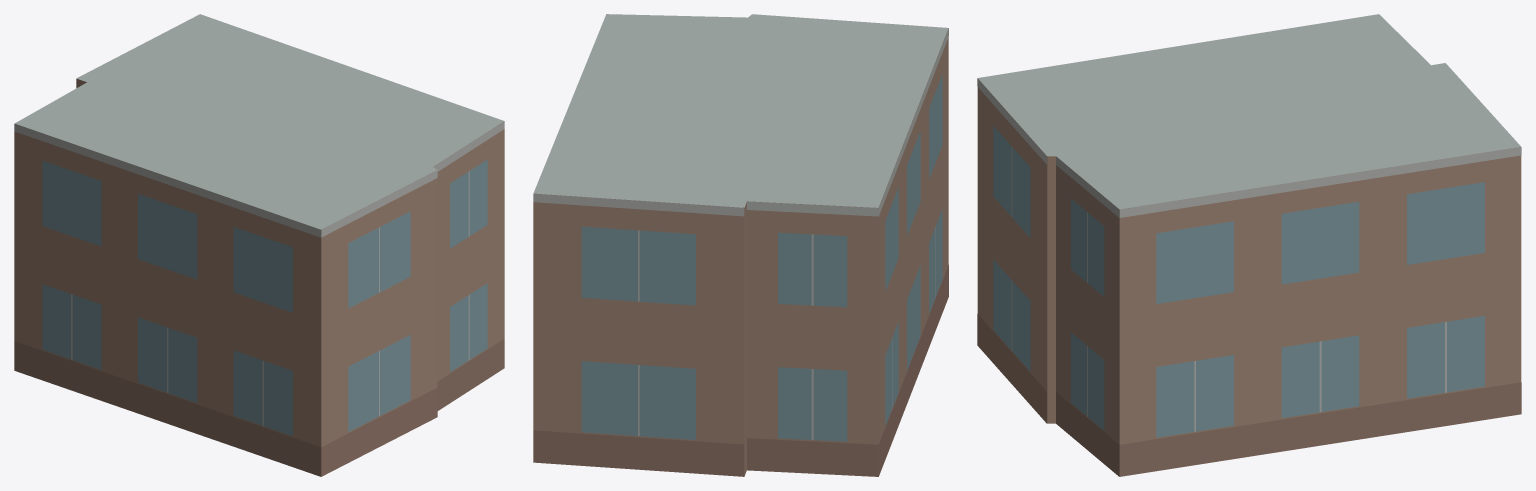
The model's file is survey-upis-32583181.glb.
The picture shows the model from 3 angles, left to right: view 1: azimuth 30°, elevation 25°; view 2: azimuth 150°, elevation 25°; view 3: azimuth 270°, elevation 25°; orthographic projection. The views are drawn at different scales.
Parts seen in each view (by area): view 1: survey-upis-32583181.tmp; view 2: survey-upis-32583181.tmp; view 3: survey-upis-32583181.tmp.
Boxes of the visible parts, x1,y1,x2,y2 form: survey-upis-32583181.tmp: (14,14,504,476); survey-upis-32583181.tmp: (533,14,948,476); survey-upis-32583181.tmp: (977,14,1521,476).
Size of the model in its own units: 11.92 by 7.6 by 14.02.
